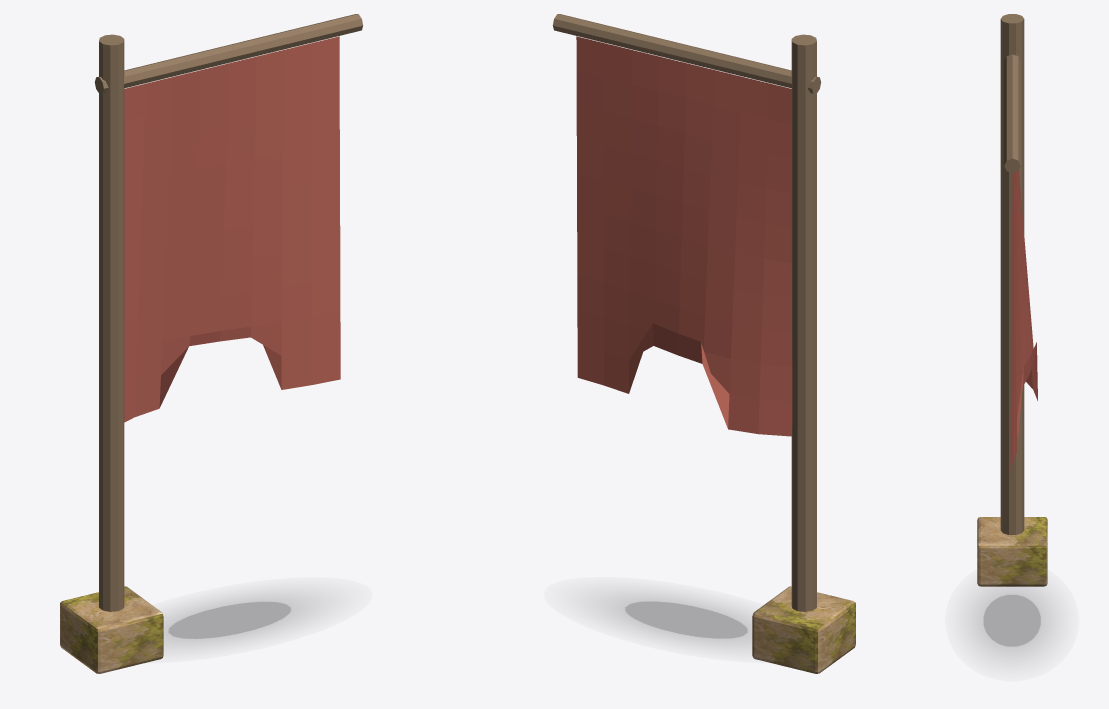
Rendered from banner-red.glb.
3 views of the same model, side by side, from view 1: azimuth 30°, elevation 25°; view 2: azimuth 150°, elevation 25°; view 3: azimuth 270°, elevation 25° (orthographic). The views are drawn at different scales.
Parts seen in each view (by area): view 1: cloth, pole, base, bar, ContactShadow; view 2: cloth, pole, base, bar, ContactShadow; view 3: pole, base, cloth, ContactShadow, bar.
Boxes of the visible parts, box(x1,y1,x2,y2) form: cloth: box(124, 36, 340, 422); pole: box(99, 34, 124, 611); base: box(60, 586, 163, 673); bar: box(94, 14, 363, 93); ContactShadow: box(164, 597, 305, 643); cloth: box(576, 36, 792, 436); pole: box(791, 34, 816, 611); base: box(752, 586, 855, 673); bar: box(552, 14, 821, 93); ContactShadow: box(610, 597, 751, 642); pole: box(1000, 14, 1024, 534); base: box(977, 517, 1047, 586); cloth: box(1010, 170, 1037, 473); ContactShadow: box(976, 588, 1047, 652); bar: box(1004, 54, 1020, 173).
Bounding box in the file's own units: 1.5 × 2.6 × 0.7.
Materials: 4 (2 with a texture image).
